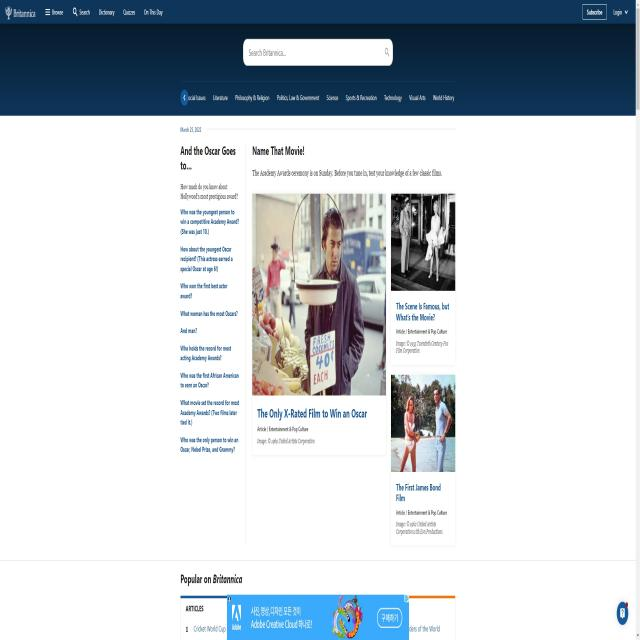search: (238, 36, 398, 65)
tab-bar: (177, 88, 458, 113)
